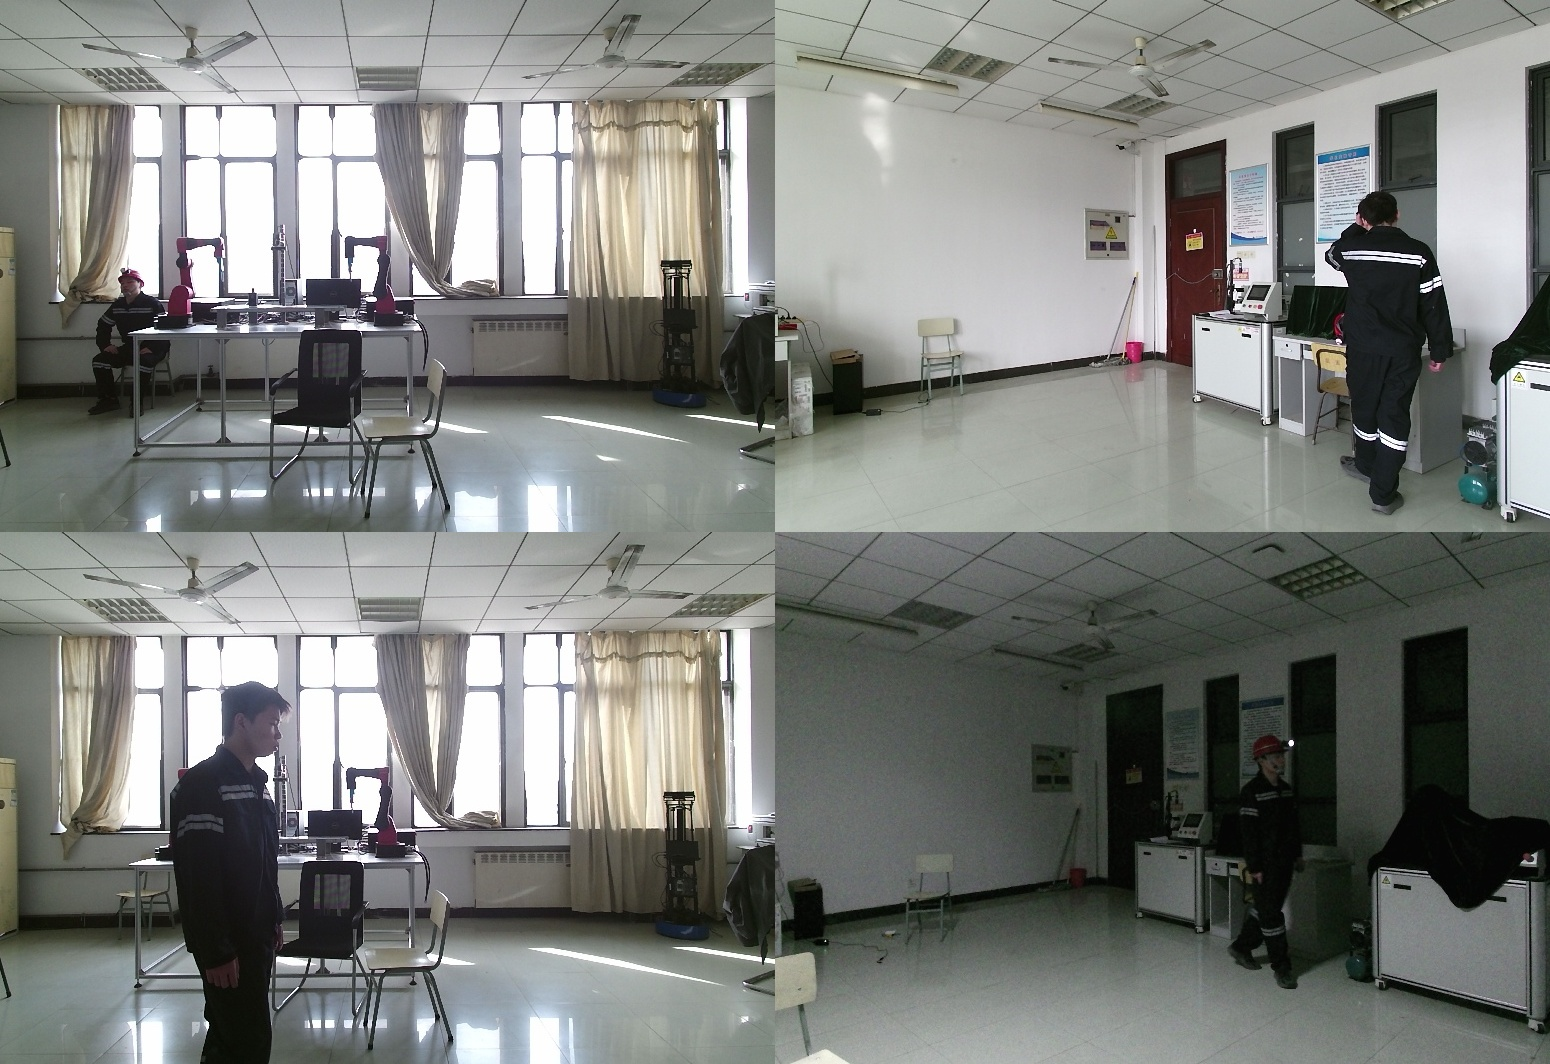person: (170, 683, 290, 1064), (1334, 191, 1469, 511), (1229, 736, 1310, 989), (80, 270, 179, 415)
